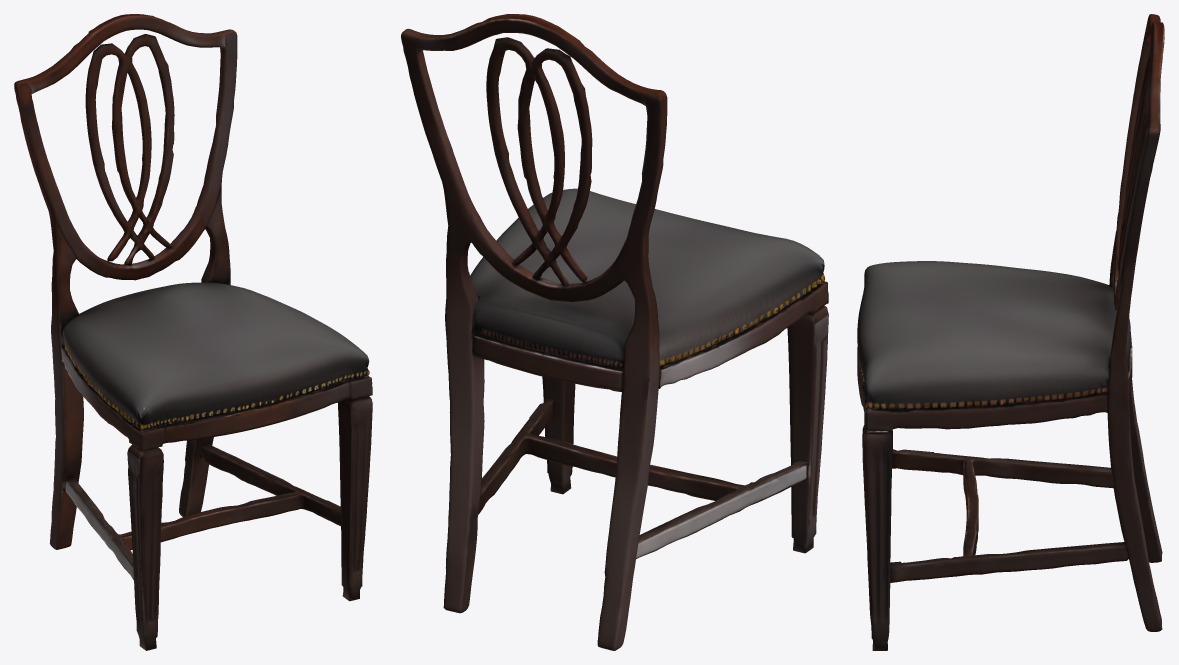
3 renders of one model, left to right at view 1: azimuth 30°, elevation 25°; view 2: azimuth 150°, elevation 25°; view 3: azimuth 270°, elevation 25°, orthographic. The views are drawn at different scales.
Parts seen in each view (by area): view 1: root.0, root.1, root.4, root.3, root.2, root.6, root.5; view 2: root.1, root.0, root.4, root.3, root.2, root.6, root.5; view 3: root.0, root.1, root.3, root.2, root.5, root.4.
Boxes of the visible parts, x1=… form: root.0: x1=63, y1=282, x2=369, y2=430; root.1: x1=14, y1=14, x2=237, y2=549; root.4: x1=85, y1=34, x2=174, y2=265; root.3: x1=65, y1=444, x2=340, y2=580; root.2: x1=61, y1=345, x2=372, y2=451; root.6: x1=127, y1=444, x2=163, y2=650; root.5: x1=338, y1=396, x2=372, y2=601; root.1: x1=401, y1=14, x2=667, y2=650; root.0: x1=470, y1=188, x2=824, y2=367; root.4: x1=486, y1=37, x2=592, y2=286; root.3: x1=478, y1=398, x2=808, y2=558; root.2: x1=472, y1=281, x2=828, y2=392; root.6: x1=787, y1=305, x2=828, y2=553; root.5: x1=542, y1=376, x2=575, y2=494; root.0: x1=857, y1=261, x2=1131, y2=409; root.1: x1=1107, y1=14, x2=1164, y2=631; root.3: x1=890, y1=449, x2=1128, y2=582; root.2: x1=857, y1=335, x2=1132, y2=431; root.5: x1=862, y1=425, x2=892, y2=650; root.4: x1=1118, y1=48, x2=1150, y2=275.
Size of the model in its own units: 0.4458 by 0.937 by 0.4625.
7 materials, 7 textured.
